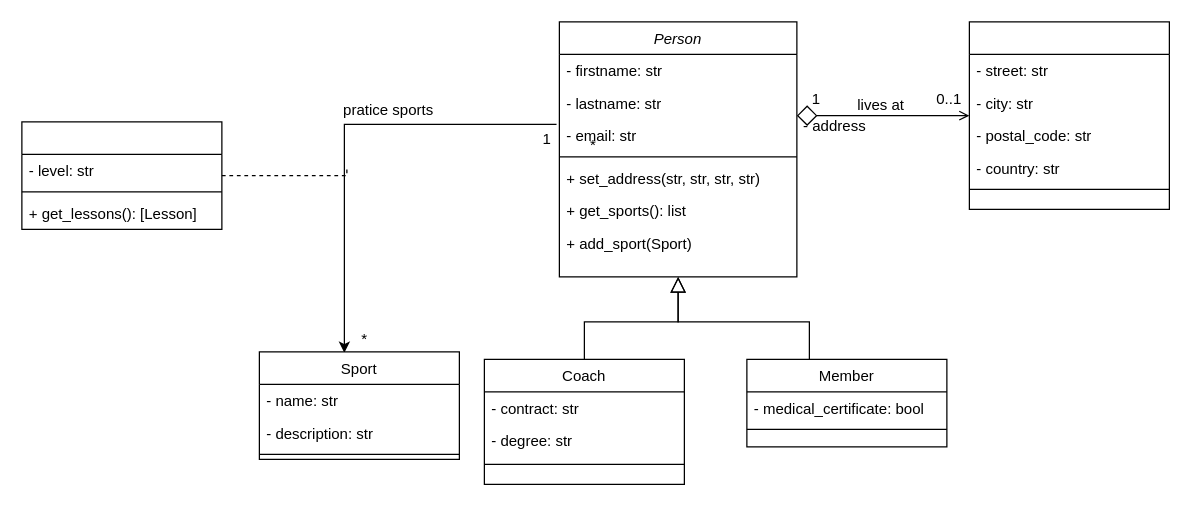
This 1191x506 diagram has some shape labels left out. Each missing label, with the box of its shape:
Address: (968, 21, 1169, 209)
SportAssociation: (21, 121, 222, 229)
